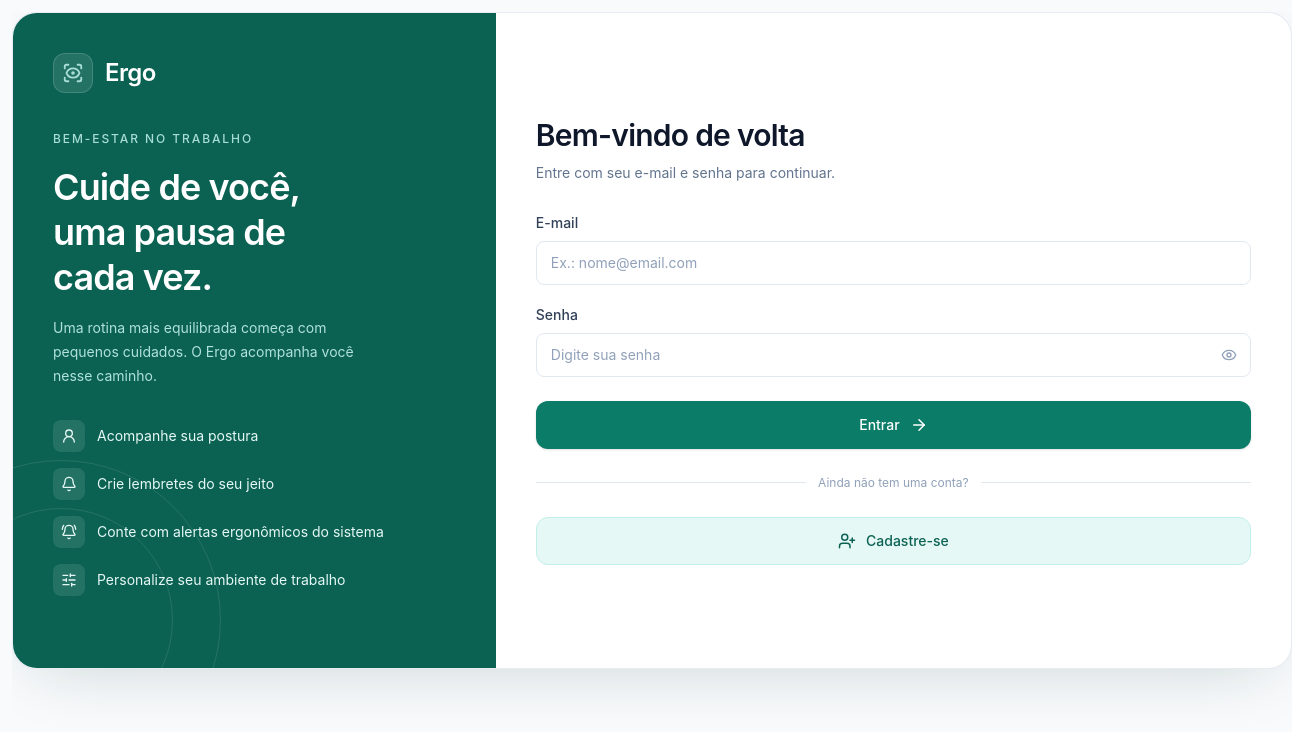
Test case: single registration flow › opens registration directly without asking for an account type
This screenshot has width=1292, height=732.
Click the button "Cadastre-se". click: (893, 540)
box: [536,516,1251,564]
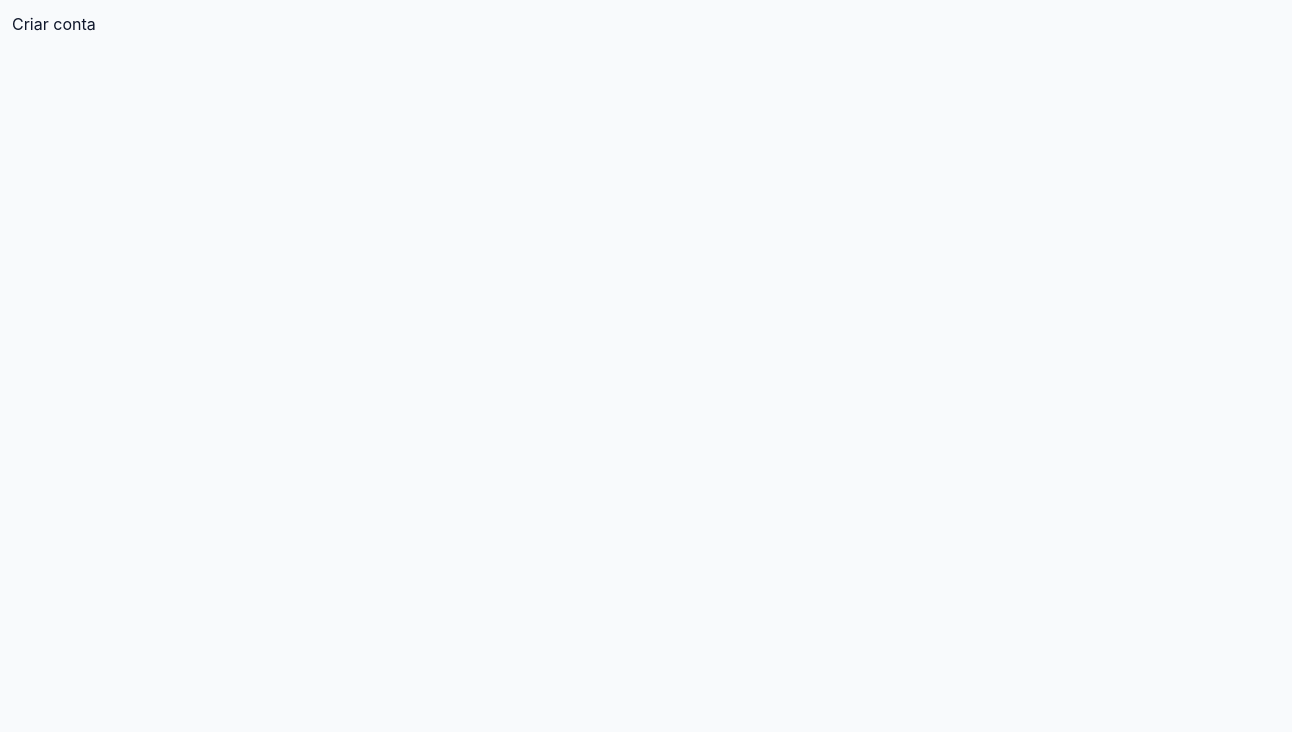
expect the heading "Criar conta" is shown: met, box [12,14,96,34]
